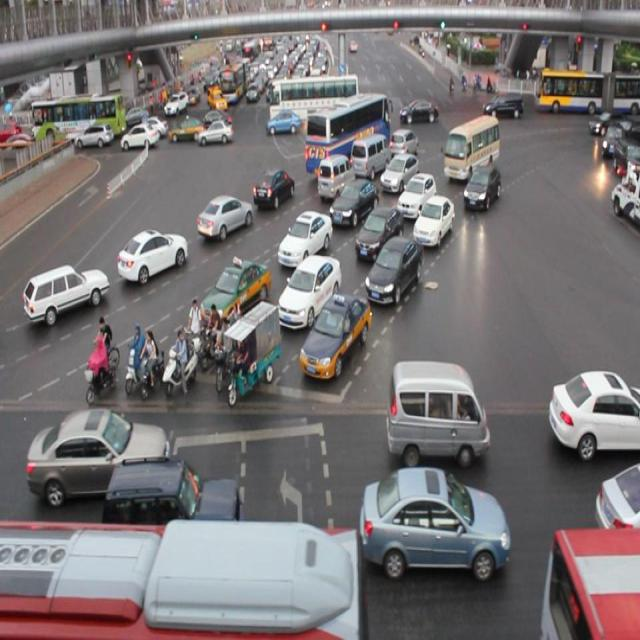car: (362, 462, 512, 578), (28, 409, 174, 502), (102, 452, 242, 534), (547, 367, 640, 460), (298, 296, 371, 381), (199, 255, 271, 334), (24, 259, 109, 322), (276, 252, 342, 330), (362, 231, 423, 307), (117, 225, 187, 282), (593, 461, 640, 536), (277, 210, 332, 268), (352, 208, 402, 263), (197, 193, 253, 241), (328, 177, 379, 225), (412, 194, 455, 247), (254, 168, 298, 208), (381, 148, 420, 190), (398, 172, 438, 212), (462, 167, 499, 206), (390, 126, 418, 162)
truck: (385, 353, 489, 465), (443, 115, 500, 179), (351, 134, 392, 178), (315, 156, 353, 202)
van: (0, 516, 364, 640), (534, 521, 640, 639), (306, 92, 392, 179)
